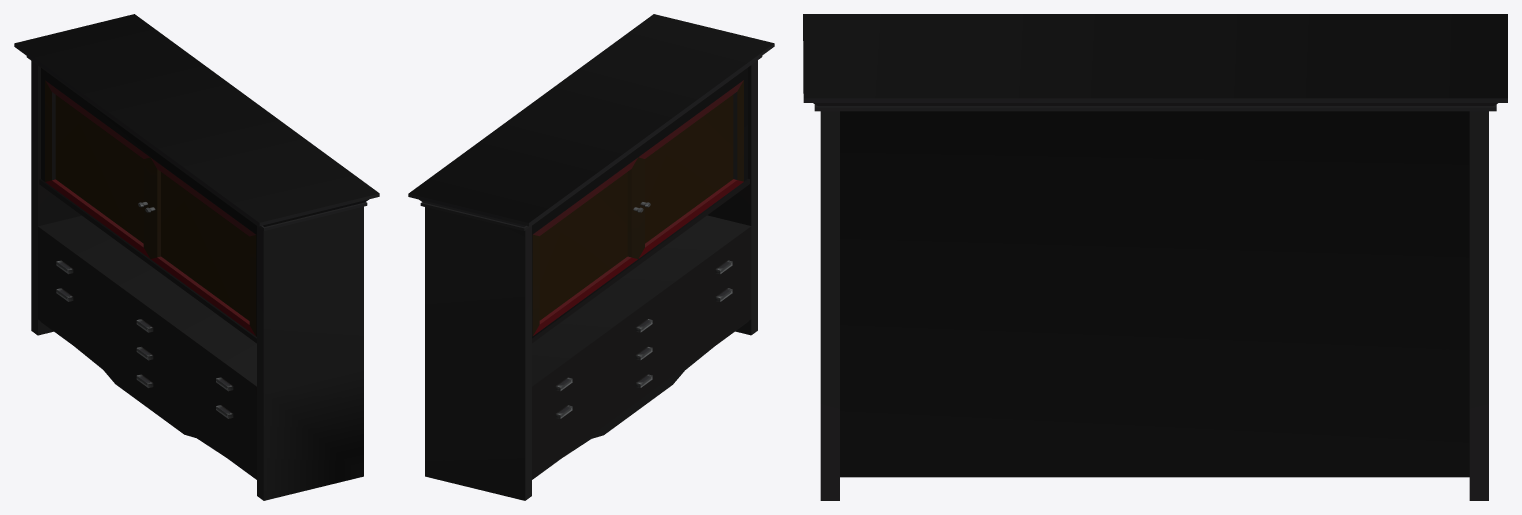
File: RE_RLivingLTable.FBX
3 views of the same model, side by side, from view 1: azimuth 30°, elevation 25°; view 2: azimuth 150°, elevation 25°; view 3: azimuth 270°, elevation 25° (orthographic). The views are drawn at different scales.
Visible parts, largest first — view 1: RE_RLivingLTable; view 2: RE_RLivingLTable; view 3: RE_RLivingLTable.
Boxes of the visible parts, x1,y1,x2,y2 form: RE_RLivingLTable: [14, 14, 379, 500]; RE_RLivingLTable: [408, 14, 774, 500]; RE_RLivingLTable: [803, 14, 1507, 500].
Bounding box in the file's own units: 24.77 × 56.01 × 87.4.
2 materials, 2 textured.
